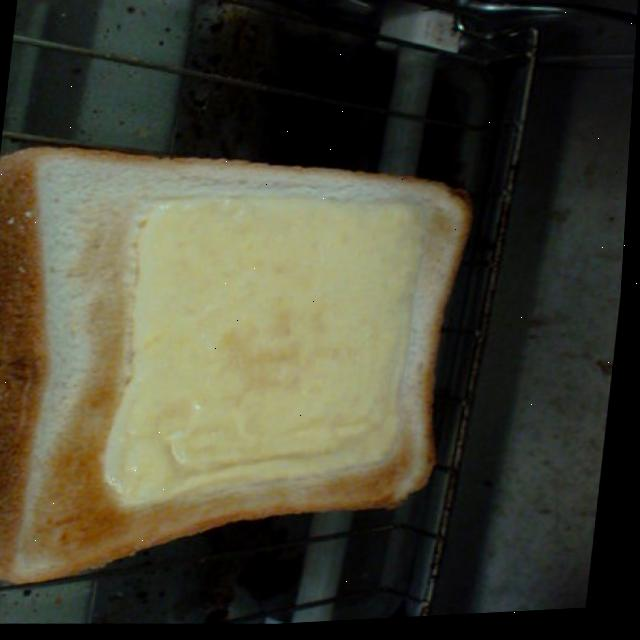面包点心: (0, 129, 500, 585)
